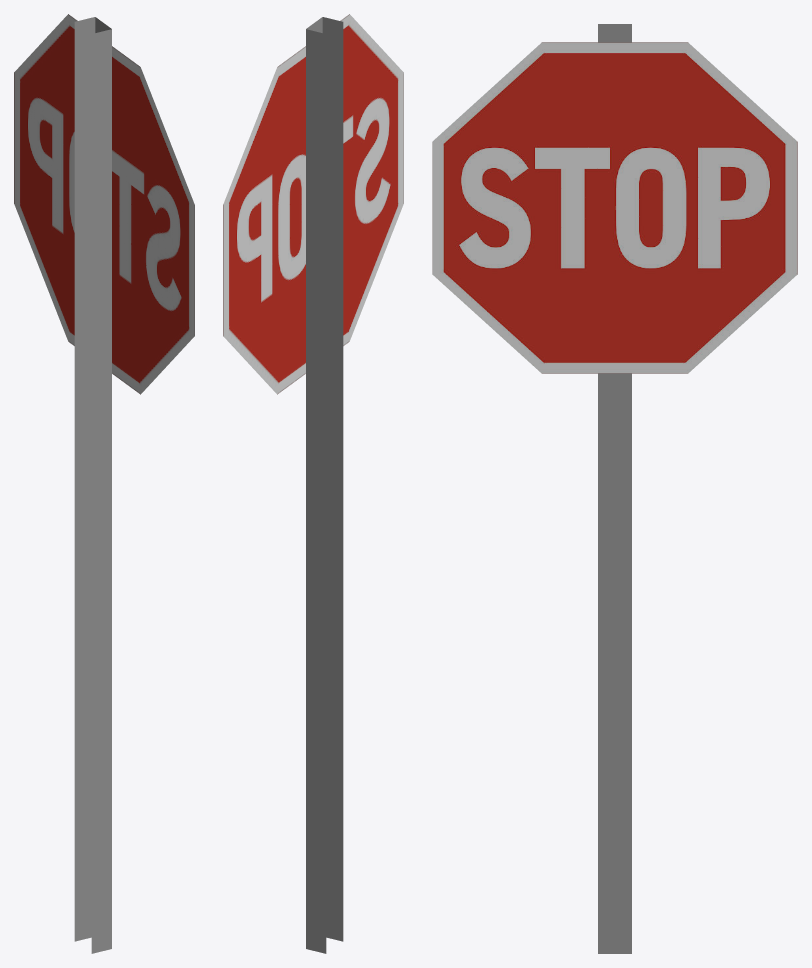
The model's file is sign_stop.fbx.
3 renders of one model, left to right at view 1: azimuth 30°, elevation 25°; view 2: azimuth 150°, elevation 25°; view 3: azimuth 270°, elevation 25°, orthographic.
Parts seen in each view (by area): view 1: Sign_Octagon; view 2: Sign_Octagon; view 3: Sign_Octagon.
Part boxes in pixels (x1,y1,x2,y2): Sign_Octagon: [14, 14, 194, 953]; Sign_Octagon: [223, 14, 403, 953]; Sign_Octagon: [432, 24, 797, 953].
Bounding box in the file's own units: 5.18 × 213 × 76.
Materials: 2 (1 with a texture image).
